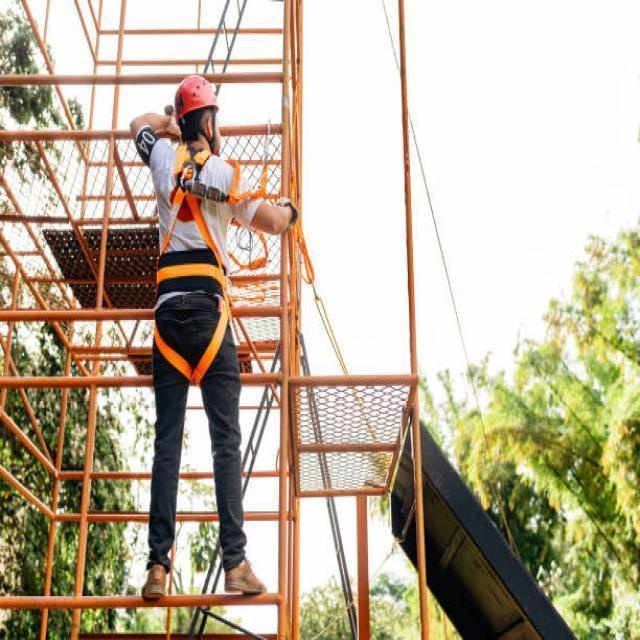Arnes_seguridad: (151, 144, 237, 385)
